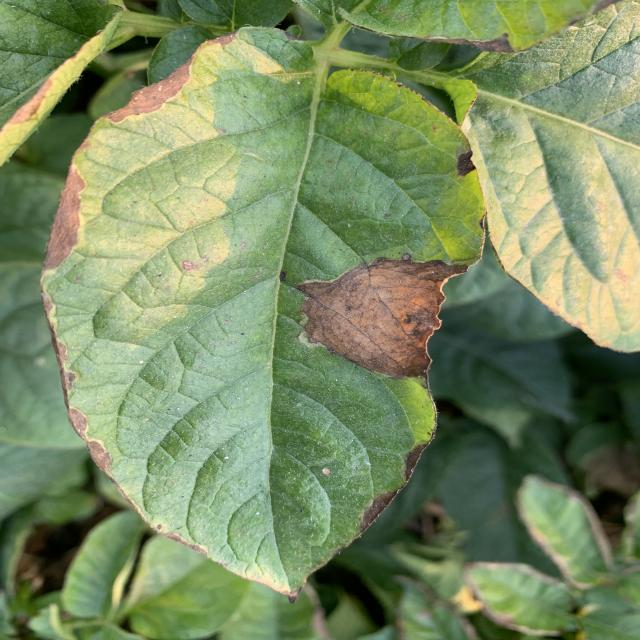lateblight: (297, 255, 468, 379), (105, 59, 193, 122), (43, 166, 85, 271), (142, 500, 212, 554), (360, 489, 400, 534), (53, 340, 75, 392), (85, 441, 112, 475), (405, 441, 428, 475), (43, 294, 53, 329), (215, 34, 235, 45), (70, 420, 83, 434)
